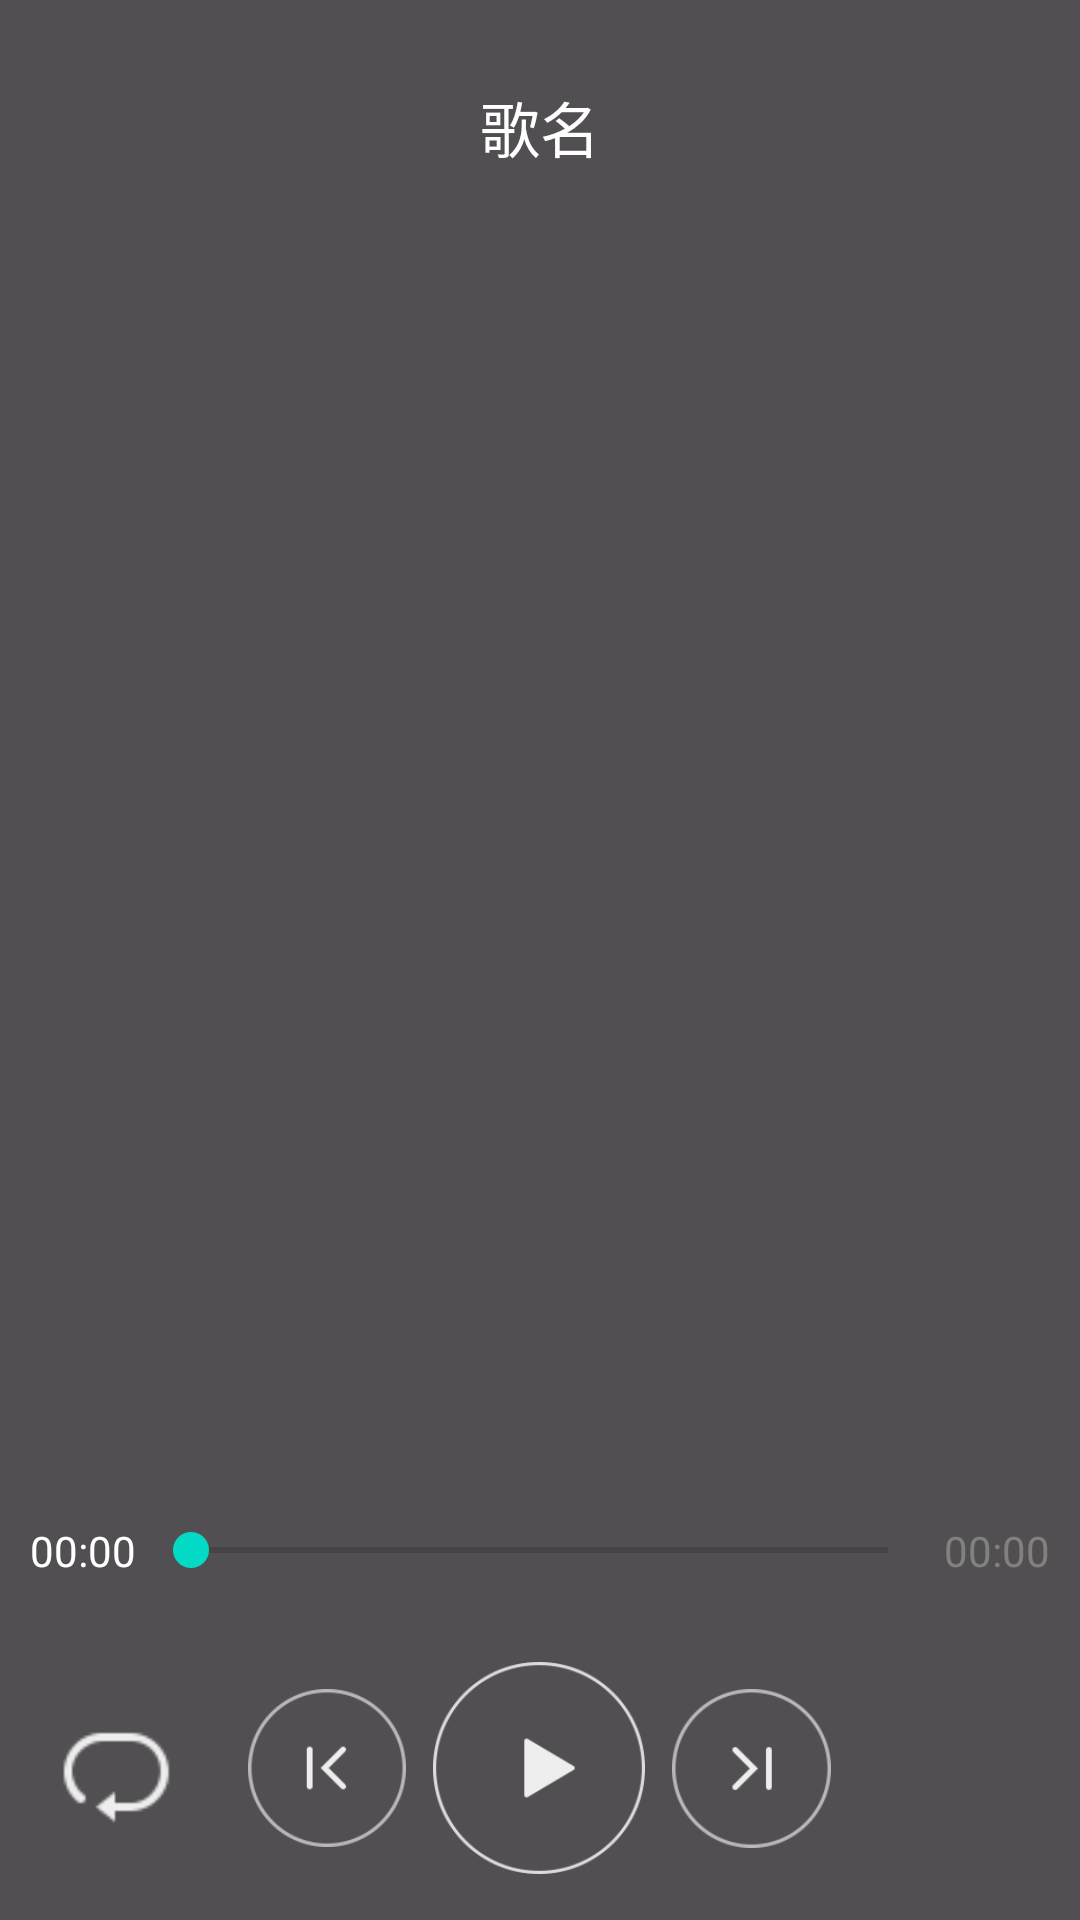

Point at icon controls on the screen. Image size 1080×1920, points as point (x, y).
nowplaying next: point (751, 1768)
nowplaying play: point (539, 1768)
nowplaying prev: point (327, 1768)
tool repeat all: point (116, 1777)
